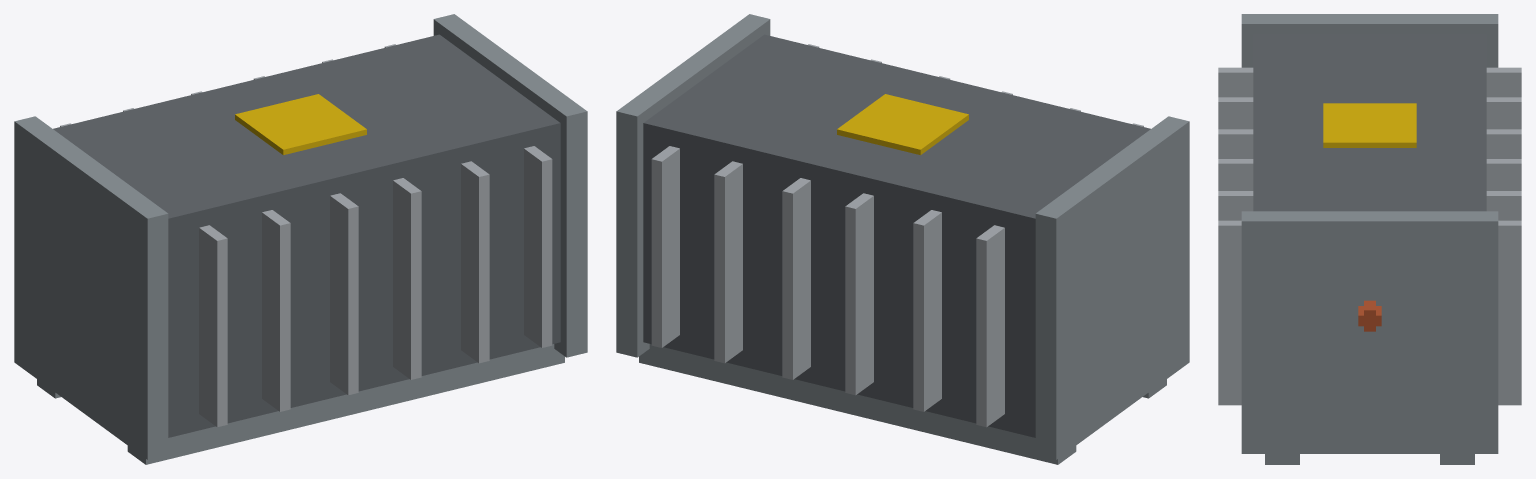
The model's file is radioisotope_generator.glb.
3 renders of one model, left to right at view 1: azimuth 30°, elevation 25°; view 2: azimuth 150°, elevation 25°; view 3: azimuth 270°, elevation 25°, orthographic. The views are drawn at different scales.
Parts seen in each view (by area): view 1: radioisotope_generator:compound; view 2: radioisotope_generator:compound; view 3: radioisotope_generator:compound.
Boxes of the visible parts, bbox=[...] form: radioisotope_generator:compound: bbox=[14, 14, 587, 464]; radioisotope_generator:compound: bbox=[616, 14, 1189, 464]; radioisotope_generator:compound: bbox=[1218, 14, 1521, 464].
Size of the model in its own units: 0.88 by 0.47 by 0.52.
